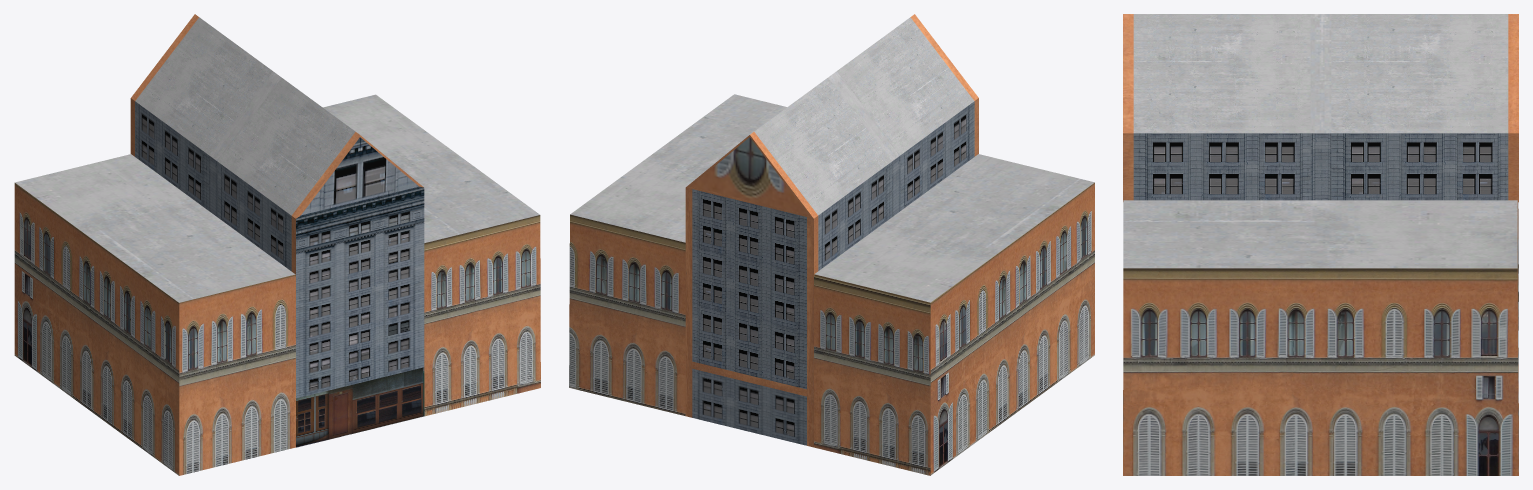
File: Classical Building 04.FBX
3 renders of one model, left to right at view 1: azimuth 30°, elevation 25°; view 2: azimuth 150°, elevation 25°; view 3: azimuth 270°, elevation 25°, orthographic. The views are drawn at different scales.
Parts seen in each view (by area): view 1: Classical Building 04; view 2: Classical Building 04; view 3: Classical Building 04.
Boxes of the visible parts, x1,y1,x2,y2 form: Classical Building 04: (14,14,540,475); Classical Building 04: (569,14,1094,475); Classical Building 04: (1123,14,1518,475).
Size of the model in its own units: 840 by 660 by 664.
